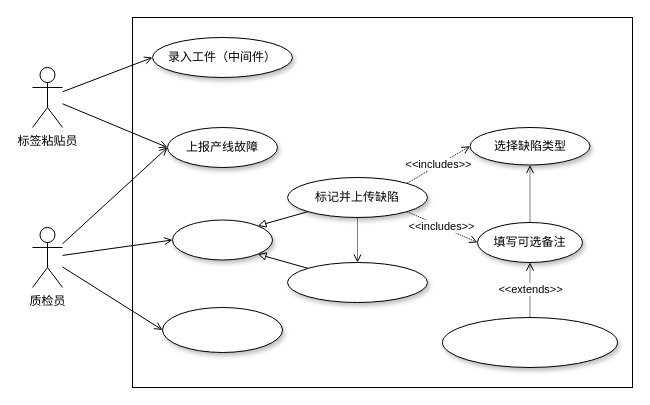
This 650x405 diagram has some shape labels left out. The shapes that lost their labels are listed below. From the top down, each one's centre as x and y in pixels, then its label:
At point 223,241: "缺陷标记".
At point 358,284: "查看当前产品信息".
At point 223,331: "确认检验记录单".
At point 531,343: "若来不及填写备注， 可待批次生产完成后补充".
